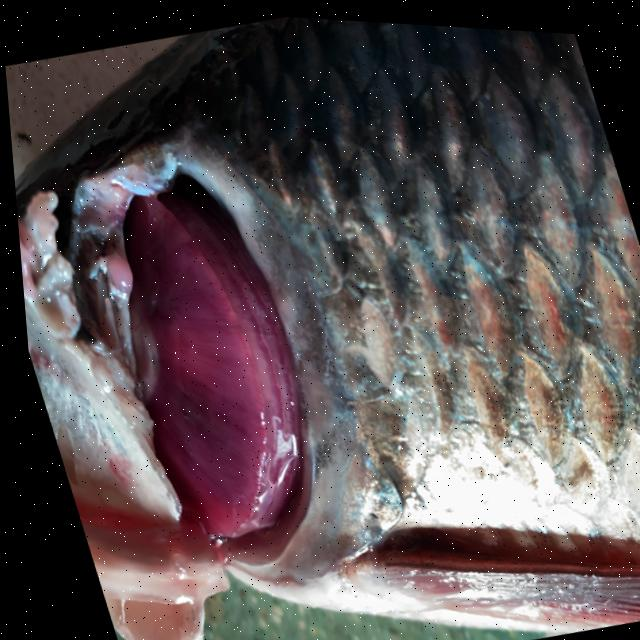Fresh: (53, 138, 347, 579)
